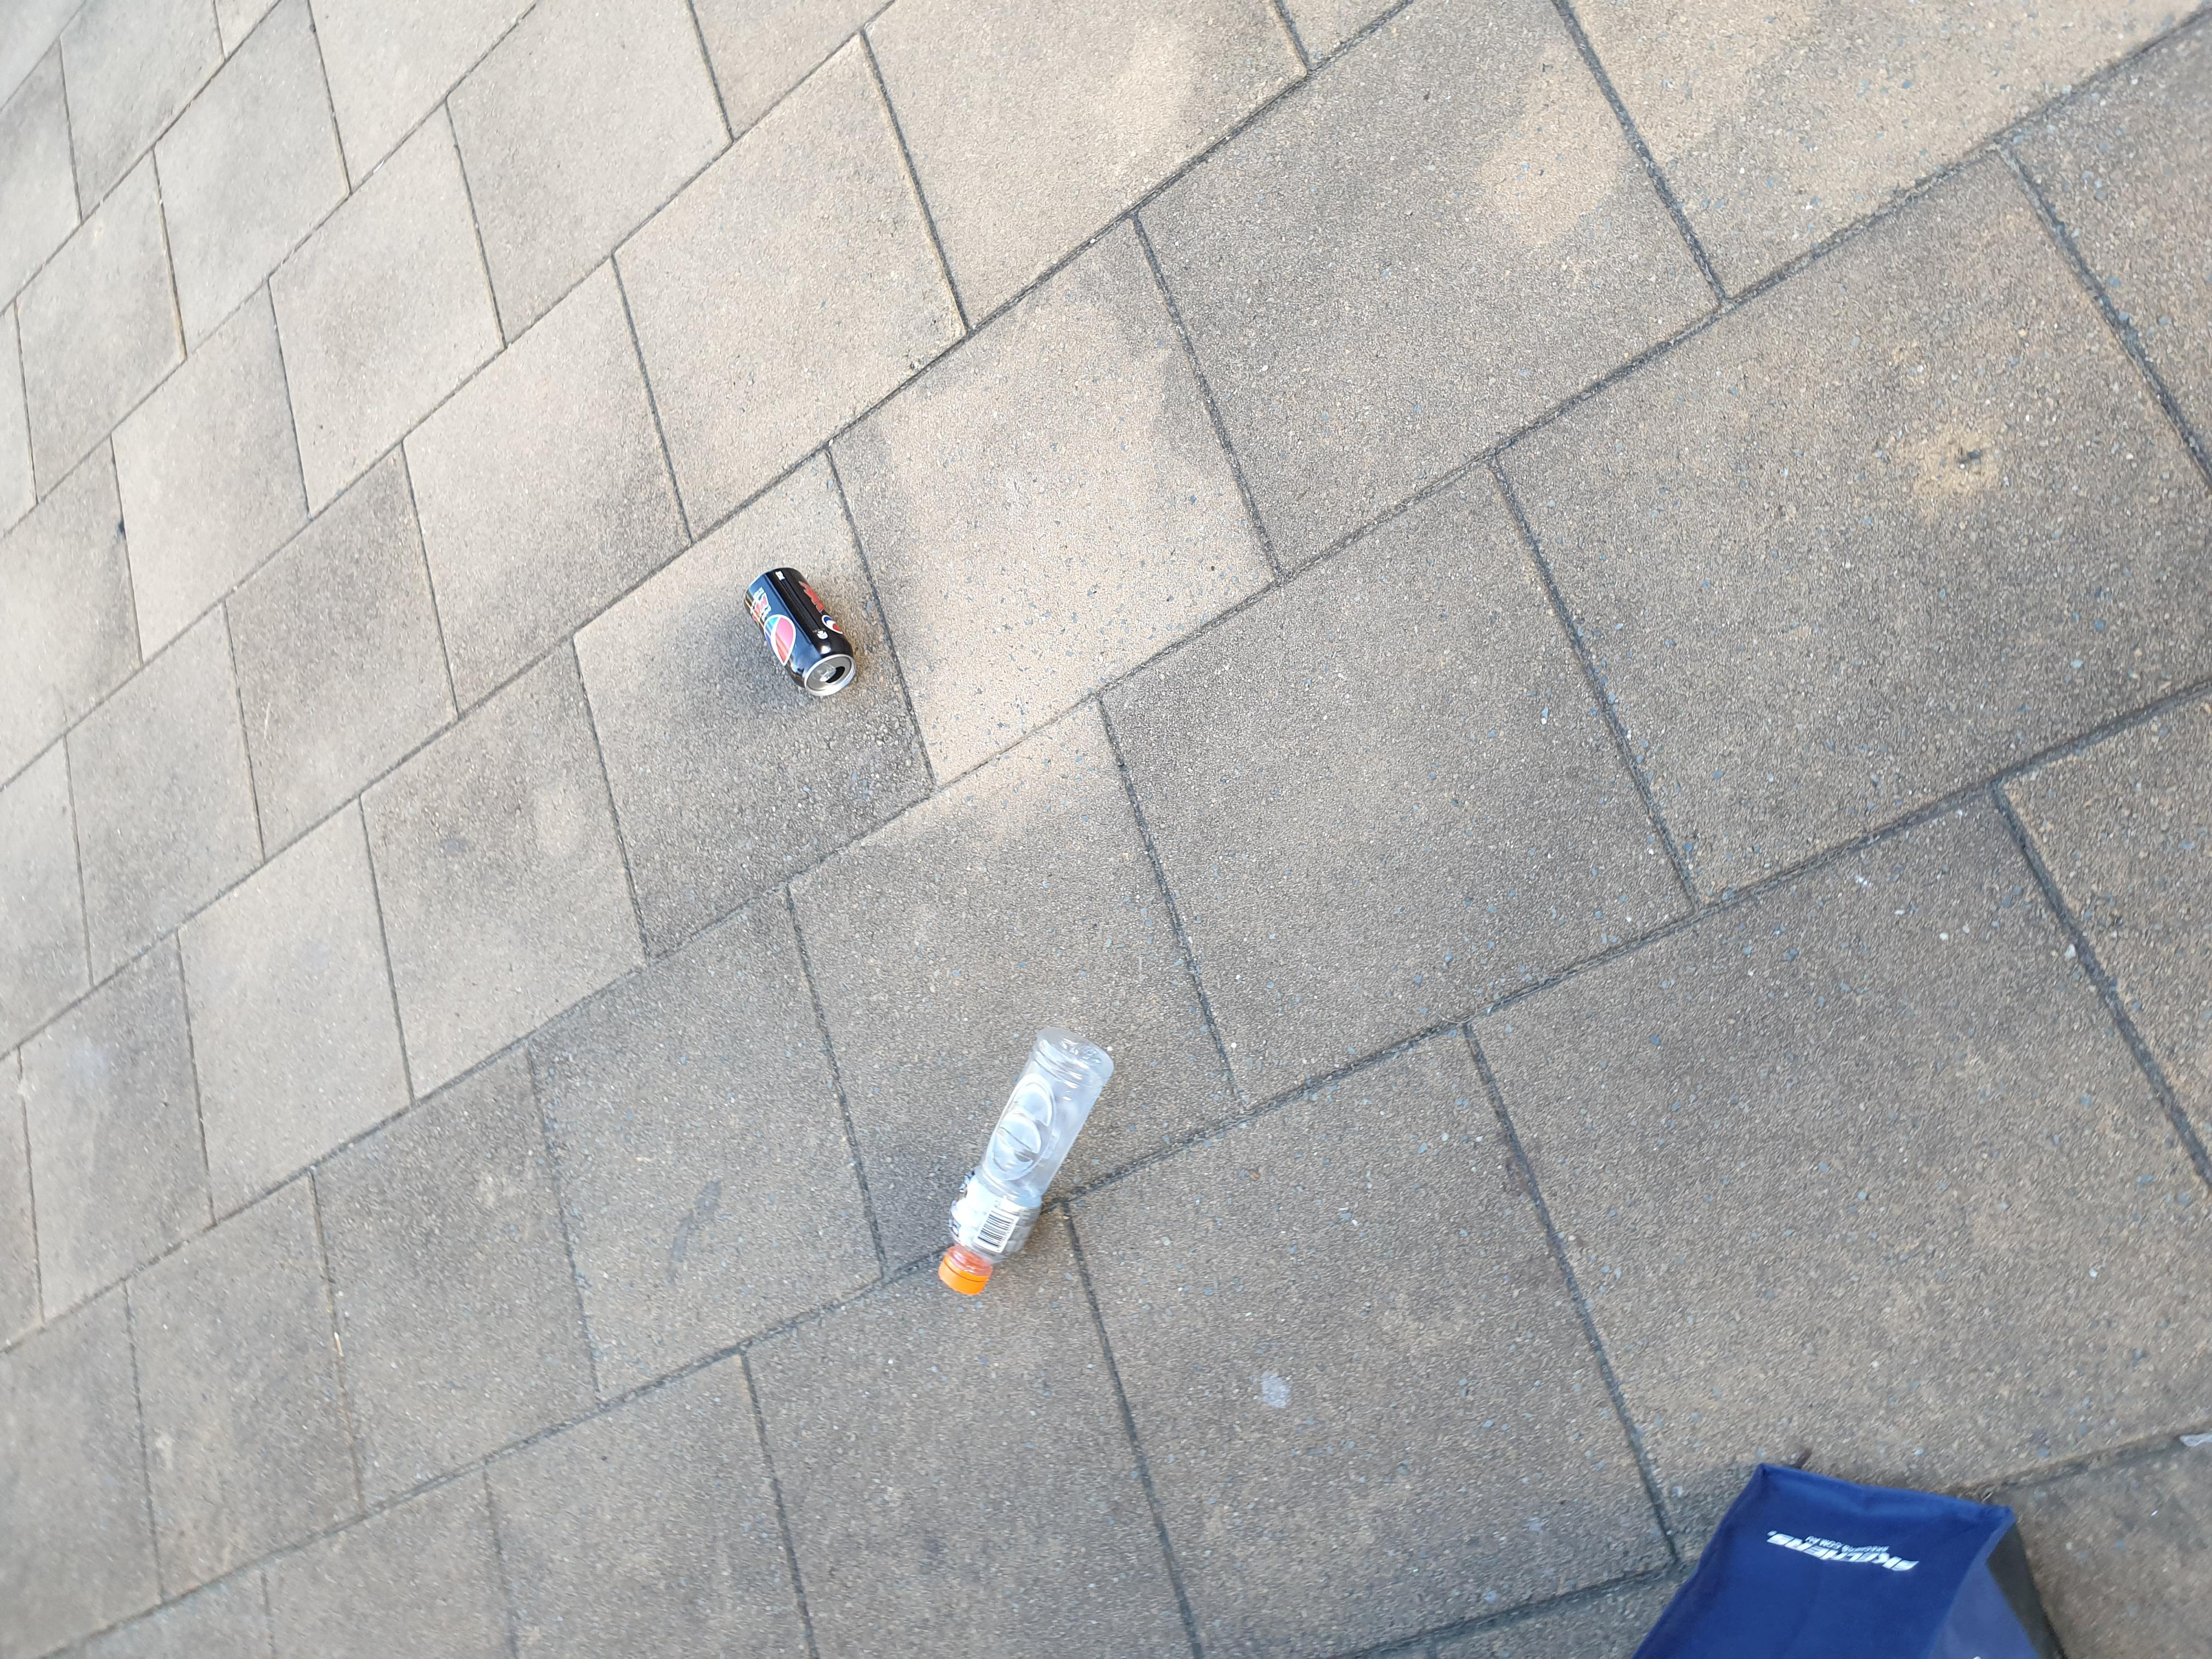Plastic Bottle: (939, 1026, 1113, 1291), (742, 568, 855, 695)
